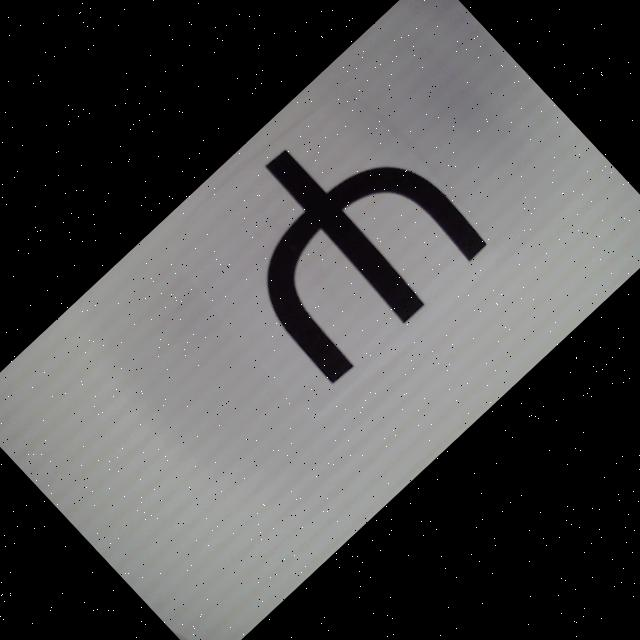PSI: (190, 90, 490, 390)
